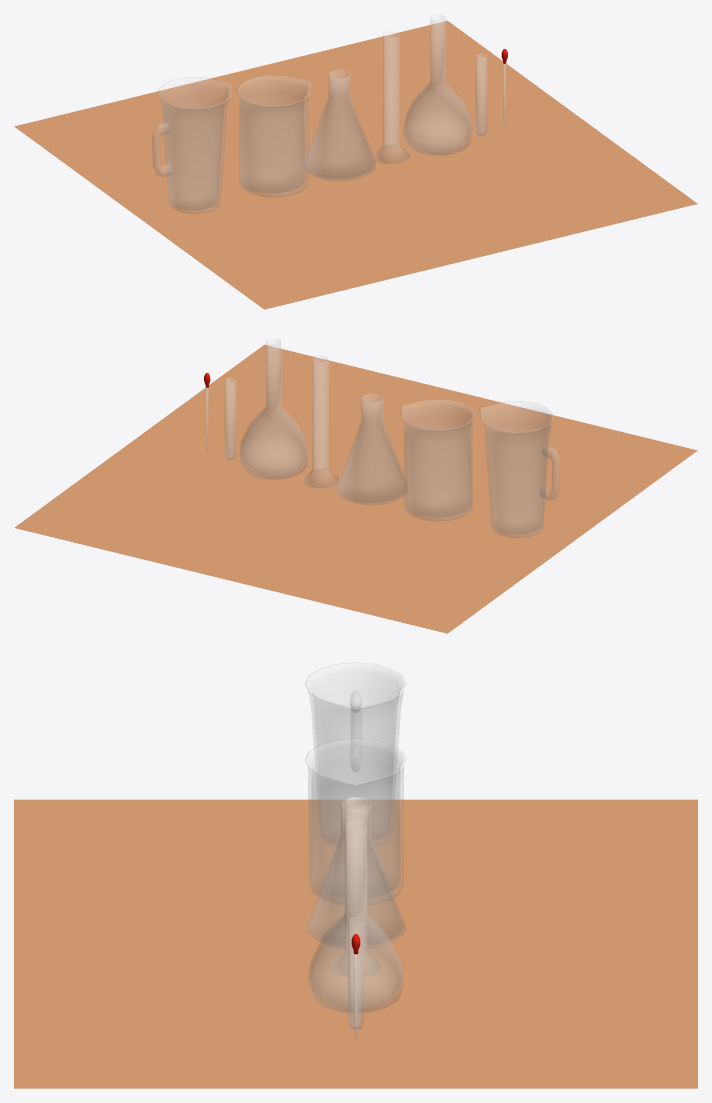
Rendered from Glassware.glb.
3 renders of one model, top to bottom at view 1: azimuth 30°, elevation 25°; view 2: azimuth 150°, elevation 25°; view 3: azimuth 270°, elevation 25°, orthographic. The views are drawn at different scales.
Parts seen in each view (by area): view 1: Plane, Gelas Ukur, Beaker, Volumetric Flask, Erenmayer, Graduated Cylinder, Tube; view 2: Plane, Gelas Ukur, Beaker, Volumetric Flask, Erenmayer, Graduated Cylinder, Tube; view 3: Plane, Gelas Ukur, Beaker, Volumetric Flask, Erenmayer, Graduated Cylinder, Tube.
Part boxes in pixels (<box>): Plane: <box>14,20,697,309</box>; Gelas Ukur: <box>152,77,232,213</box>; Beaker: <box>237,75,311,197</box>; Volumetric Flask: <box>403,14,472,155</box>; Erenmayer: <box>304,69,375,181</box>; Graduated Cylinder: <box>373,31,409,163</box>; Tube: <box>476,53,486,135</box>; Plane: <box>14,344,697,633</box>; Gelas Ukur: <box>479,401,559,537</box>; Beaker: <box>400,399,474,521</box>; Volumetric Flask: <box>239,338,308,479</box>; Erenmayer: <box>336,393,407,505</box>; Graduated Cylinder: <box>302,355,338,487</box>; Tube: <box>225,377,235,459</box>; Plane: <box>14,799,697,1088</box>; Gelas Ukur: <box>305,662,406,841</box>; Beaker: <box>305,738,406,898</box>; Volumetric Flask: <box>308,820,403,1012</box>; Erenmayer: <box>306,797,405,945</box>; Graduated Cylinder: <box>345,797,366,952</box>; Tube: <box>348,917,363,1028</box>.
Bounding box in the file's own units: 5.02 × 1.42 × 5.02.
